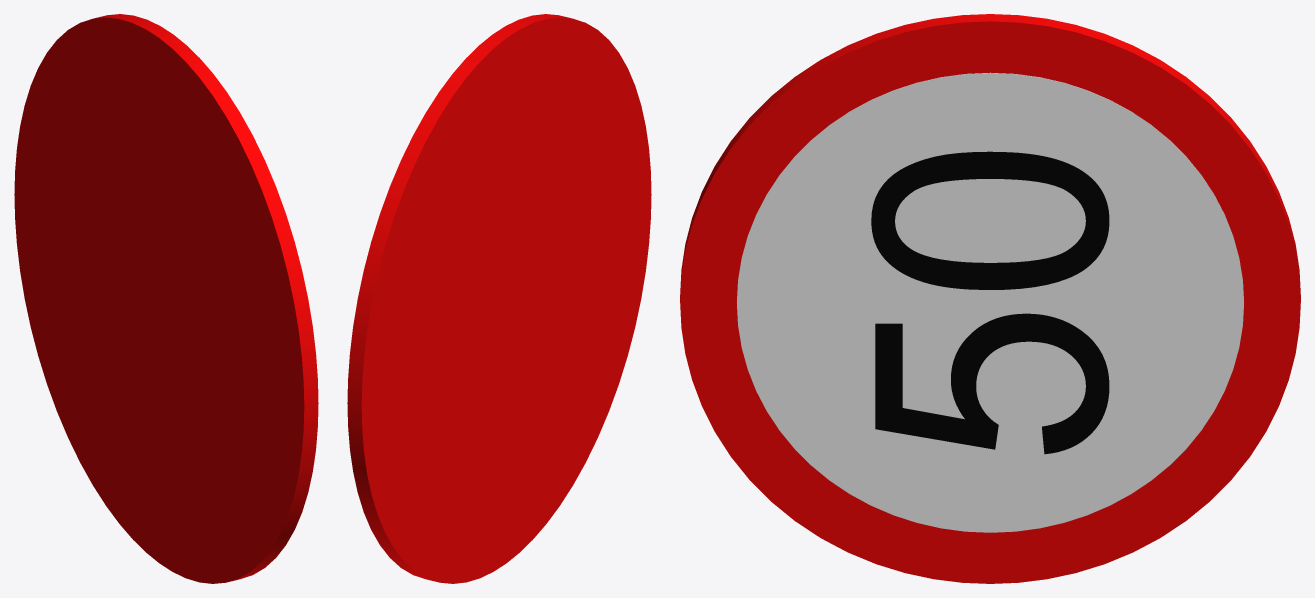
The picture shows the model from 3 angles, left to right: view 1: azimuth 30°, elevation 25°; view 2: azimuth 150°, elevation 25°; view 3: azimuth 270°, elevation 25°; orthographic projection. The views are drawn at different scales.
Visible parts, largest first — view 1: 限速50; view 2: 限速50; view 3: 限速50.
Part boxes in pixels (<box>): 限速50: <box>14,14,318,583</box>; 限速50: <box>347,14,651,583</box>; 限速50: <box>680,14,1300,583</box>.
Bounding box in the file's own units: 0.024 × 0.7737 × 0.7737.
